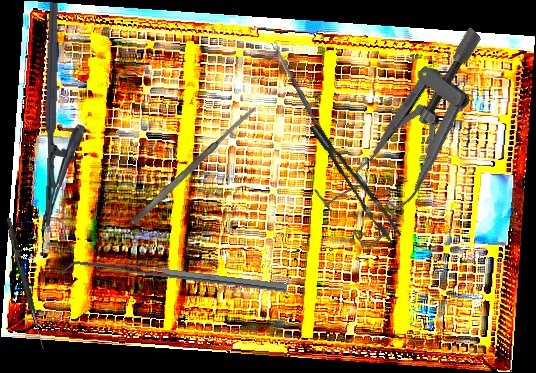Hook Surgical: (3, 217, 48, 350)
Needle Holder: (40, 2, 90, 228)
Spatula Surgical: (128, 104, 260, 227), (59, 256, 288, 301)
Speculum: (300, 25, 536, 252)
Surgical Spoon: (271, 40, 338, 160)
Tissue Forceps: (309, 113, 403, 251)
